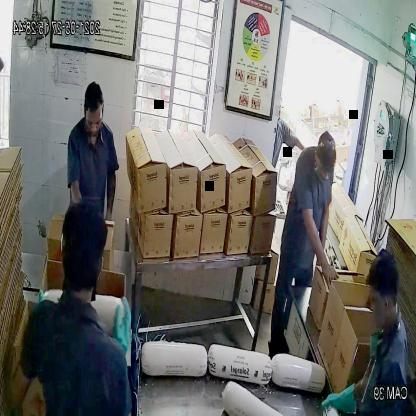no_goggles: (80, 110, 110, 134)
